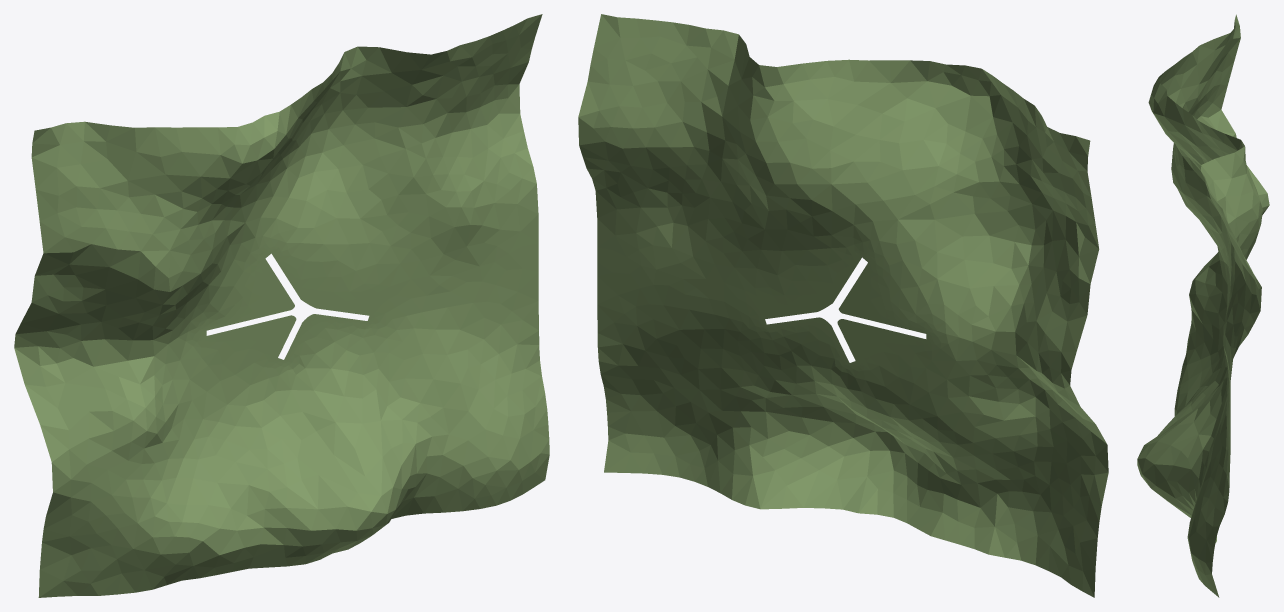
The model's file is TM_Collision_Detection.obj.
3 views of the same model, side by side, from view 1: azimuth 30°, elevation 25°; view 2: azimuth 150°, elevation 25°; view 3: azimuth 270°, elevation 25° (orthographic). The views are drawn at different scales.
Visible parts, largest first — view 1: Background; view 2: Background; view 3: Background.
Boxes of the visible parts, left/top/right/bottom form: Background: left=14, top=14, right=549, bottom=597; Background: left=578, top=14, right=1108, bottom=597; Background: left=1137, top=14, right=1269, bottom=597.
Bounding box in the file's own units: 890 × 789 × 247.
